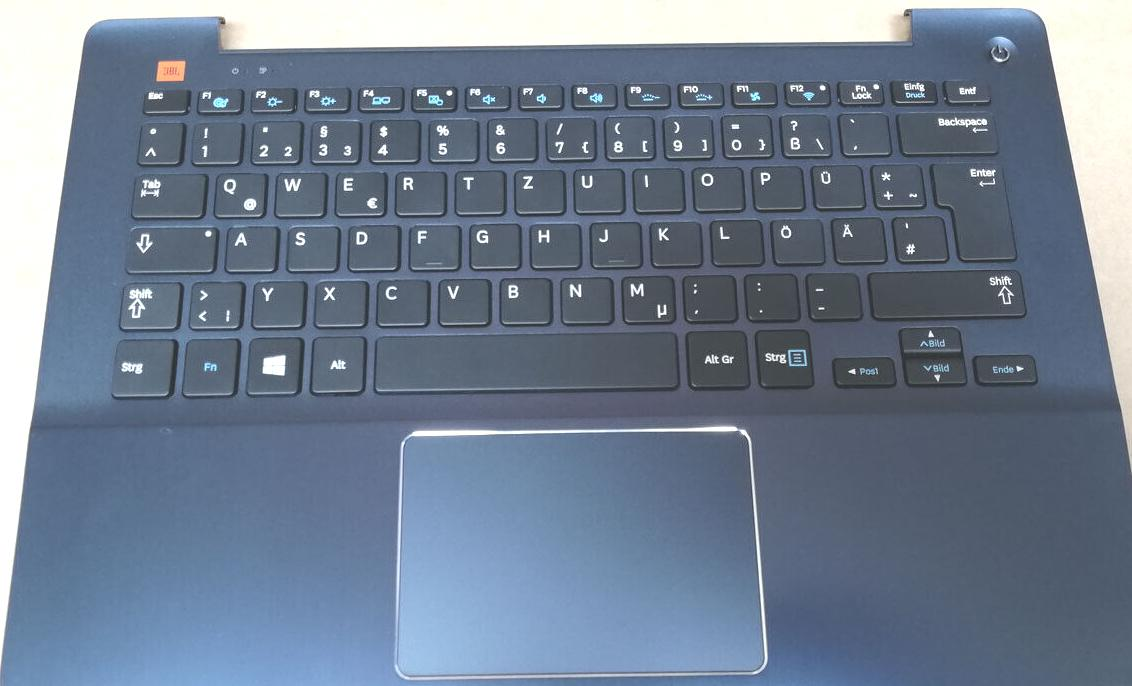0: (717, 110, 771, 157)
1: (187, 117, 239, 163)
2: (247, 116, 300, 162)
3: (306, 116, 359, 162)
4: (366, 115, 417, 161)
5: (424, 115, 476, 160)
6: (483, 114, 535, 160)
7: (542, 113, 594, 159)
8: (600, 112, 652, 158)
9: (659, 111, 711, 157)
a: (221, 222, 275, 270)
accent: (836, 109, 888, 154)
ae: (828, 214, 884, 261)
alt-left: (307, 332, 364, 392)
altgr-right: (682, 326, 747, 386)
b: (495, 274, 550, 323)
c: (372, 275, 427, 324)
caret: (133, 118, 180, 162)
comma: (678, 271, 734, 320)
d: (344, 221, 397, 269)
del: (895, 109, 996, 152)
e: (331, 167, 384, 215)
enter: (929, 157, 1016, 259)
f: (405, 221, 458, 268)
g: (465, 220, 519, 267)
h: (526, 219, 579, 267)
hash: (889, 212, 945, 260)
i: (630, 164, 682, 210)
j: (586, 217, 638, 266)
k: (646, 217, 700, 265)
keyboard: (90, 49, 1054, 419)
l: (707, 215, 761, 264)
less: (185, 277, 240, 328)
m: (617, 271, 671, 322)
minus: (801, 269, 859, 318)
n: (556, 273, 611, 322)
o: (688, 163, 742, 210)
oe: (767, 215, 822, 263)
p: (748, 162, 802, 208)
plus: (867, 159, 922, 207)
point: (740, 269, 796, 319)
q: (210, 169, 265, 216)
r: (391, 168, 444, 214)
s: (283, 222, 337, 270)
shift-left: (113, 278, 178, 328)
shift-lock: (121, 223, 214, 271)
shift-right: (863, 266, 1024, 316)
space: (372, 328, 681, 393)
ss: (776, 109, 828, 155)
strg-left: (104, 333, 172, 396)
strg-right: (752, 324, 811, 386)
t: (451, 166, 502, 213)
tab: (126, 169, 203, 216)
u: (569, 165, 622, 212)
ue: (807, 161, 862, 207)
v: (434, 275, 489, 324)
w: (271, 168, 324, 215)
x: (310, 276, 365, 326)
y: (248, 277, 303, 327)
z: (511, 165, 563, 213)
